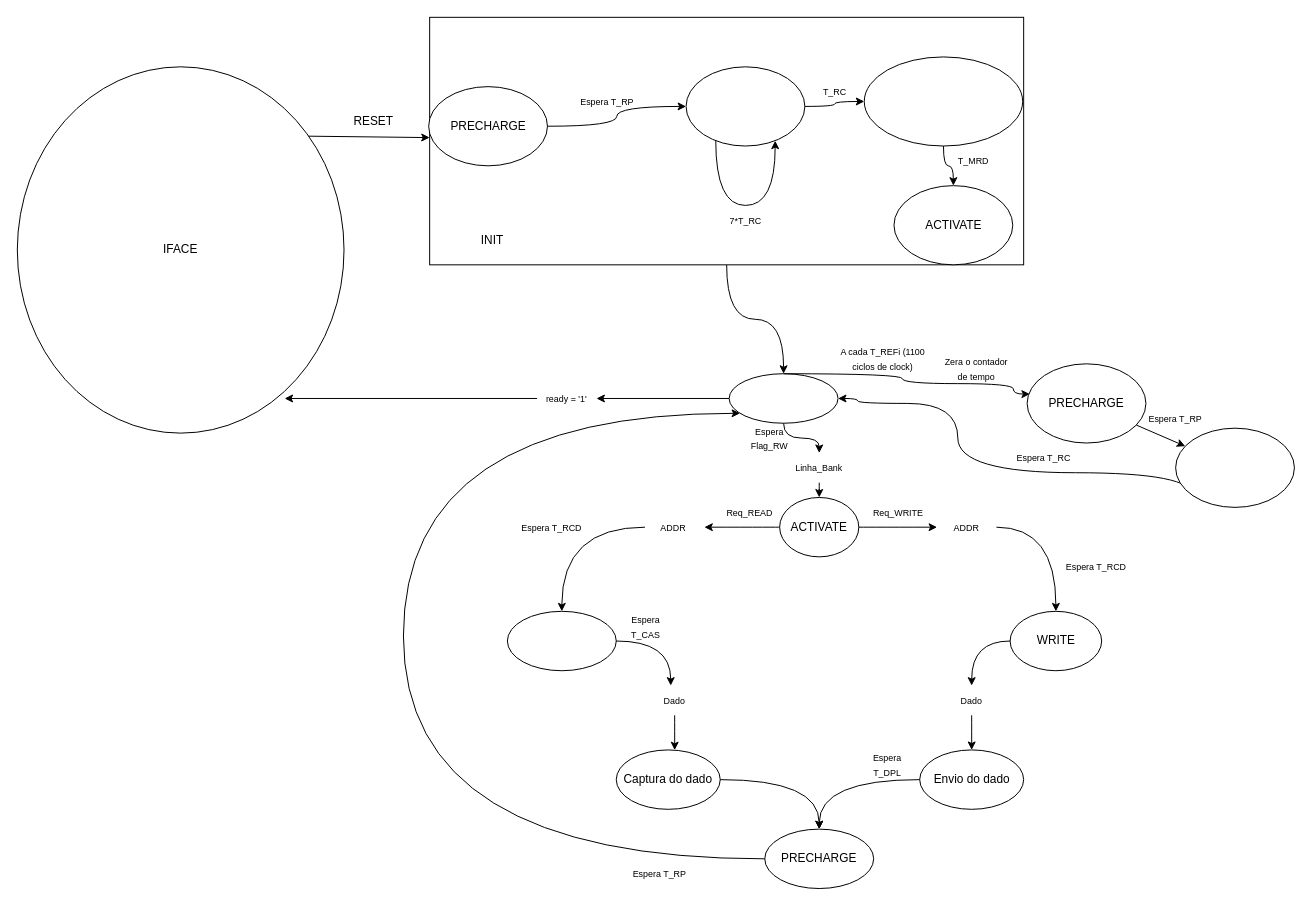
This 1312x906 diagram has some shape labels left out. The shapes that lost their labels are listed below. From the top down, each one's centre as x and y in pixels, then its label:
At pixel 745 106: "AUTO_REFRESH".
At pixel 943 101: "LOAD_MODE_REGISTER".
At pixel 783 398: "Ready".
At pixel 1234 467: "REFRESH".
At pixel 561 640: "READ".
